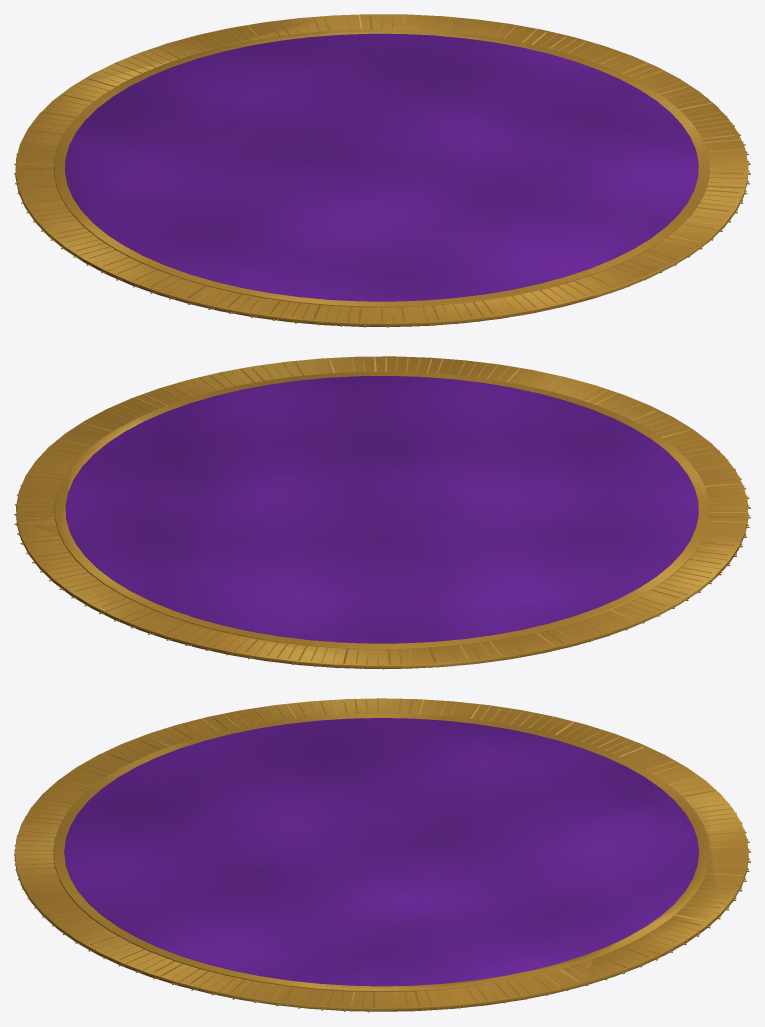
Rendered from PurpleGoldCarpet.fbx.
3 views of the same model, one above another, from view 1: azimuth 30°, elevation 25°; view 2: azimuth 150°, elevation 25°; view 3: azimuth 270°, elevation 25° (orthographic).
Parts seen in each view (by area): view 1: PurpleGoldCarpet; view 2: PurpleGoldCarpet; view 3: PurpleGoldCarpet.
Boxes of the visible parts, <box> form: PurpleGoldCarpet: <box>14,14,750,327</box>; PurpleGoldCarpet: <box>14,356,750,669</box>; PurpleGoldCarpet: <box>14,698,750,1012</box>.
Size of the model in its own units: 200 by 1.5 by 200.
